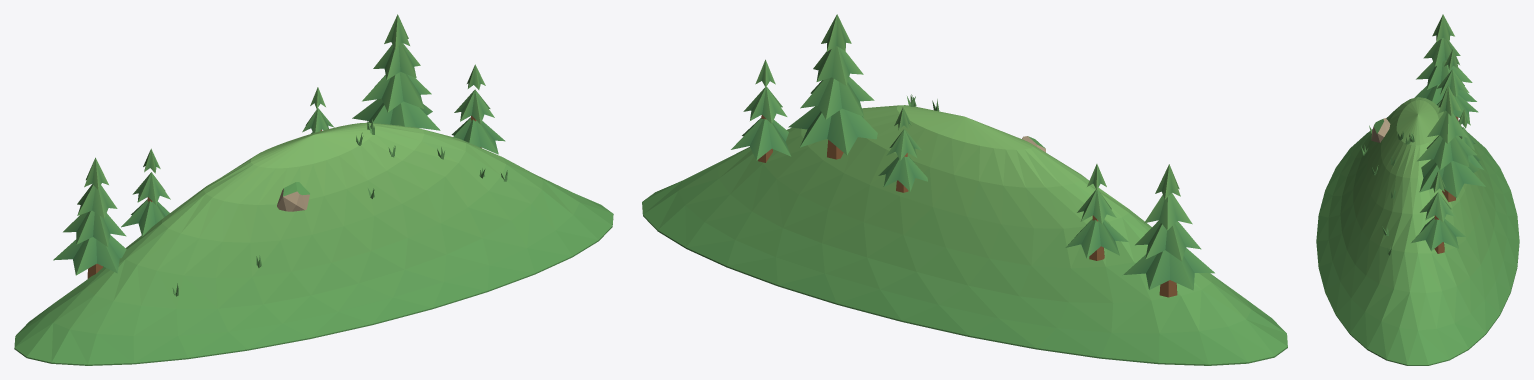
The model's file is ranch_border_hill_ridge.fbx.
3 views of the same model, side by side, from view 1: azimuth 30°, elevation 25°; view 2: azimuth 150°, elevation 25°; view 3: azimuth 270°, elevation 25° (orthographic). The views are drawn at different scales.
Parts seen in each view (by area): view 1: ranch_border_hill_ridge; view 2: ranch_border_hill_ridge; view 3: ranch_border_hill_ridge.
Part boxes in pixels (box(x1,y1,x2,y2)): ranch_border_hill_ridge: box(14, 14, 613, 365); ranch_border_hill_ridge: box(642, 14, 1287, 365); ranch_border_hill_ridge: box(1316, 14, 1519, 365).
Size of the model in its own units: 57.68 by 21.67 by 20.
